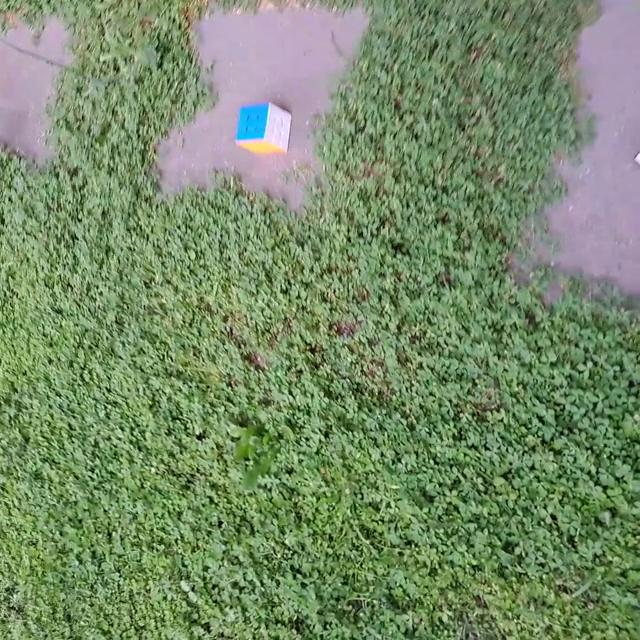rubix_cube: (232, 98, 294, 156)
